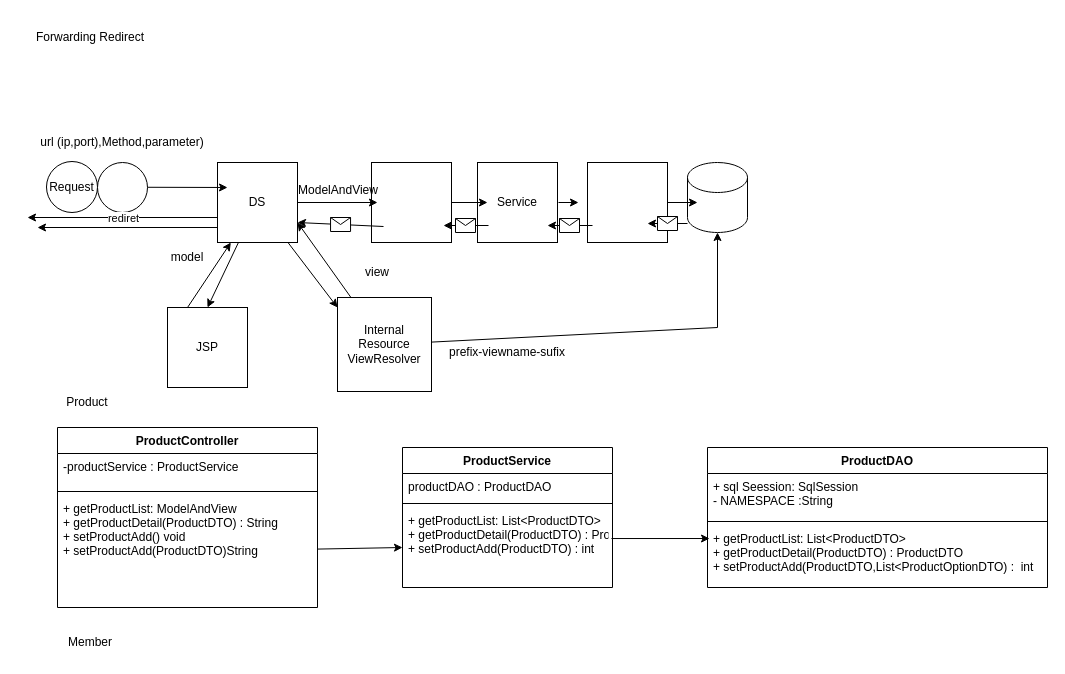
This 1065x674 diagram has some shape labels left out. Here are the shapes that lost their labels. From the top down, the centre of each, then its label:
At (122,187): "Reponse".
At (411,202): "Controller".
At (627,202): "DAO".
At (717,197): "DB".
